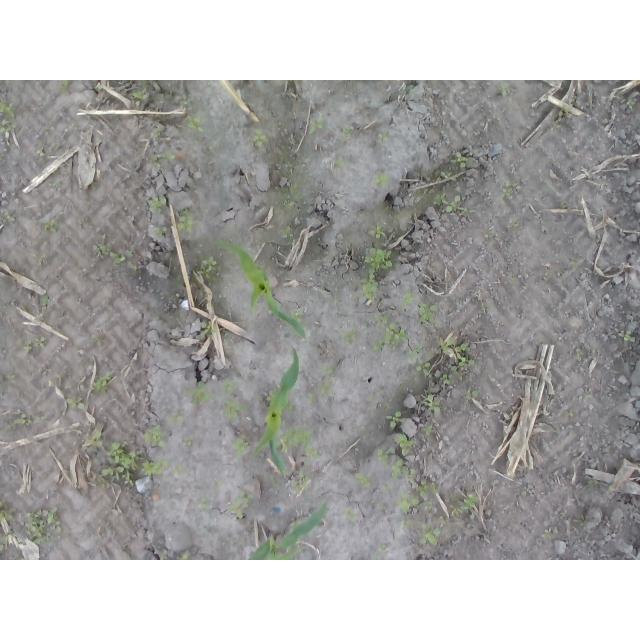Maize: (215, 240, 308, 341), (244, 344, 300, 479), (244, 502, 328, 560)
Weeds: (99, 442, 142, 487), (92, 234, 138, 270), (274, 426, 318, 459), (24, 509, 60, 543), (437, 336, 475, 366), (434, 192, 475, 216), (227, 488, 254, 520), (184, 382, 217, 407), (419, 516, 446, 546), (364, 247, 393, 273), (142, 459, 183, 477), (383, 324, 409, 351), (358, 273, 379, 305), (392, 459, 417, 484), (451, 493, 478, 516), (142, 425, 168, 448), (394, 491, 420, 514), (221, 398, 247, 420), (394, 432, 415, 457), (290, 471, 310, 496), (197, 256, 217, 280), (6, 412, 33, 429), (177, 208, 196, 232), (90, 372, 111, 393), (417, 479, 440, 498), (422, 394, 442, 414), (148, 195, 168, 214), (419, 303, 438, 323), (85, 431, 103, 450), (186, 115, 205, 133), (386, 409, 405, 427), (232, 438, 249, 458), (416, 358, 433, 378), (252, 129, 269, 148), (400, 288, 416, 308), (452, 150, 469, 168), (0, 99, 16, 118), (1, 502, 16, 522), (132, 88, 148, 106), (66, 395, 86, 409), (372, 172, 389, 188), (30, 252, 48, 267), (465, 386, 480, 404), (377, 449, 391, 468), (502, 181, 518, 197), (288, 309, 305, 324), (374, 313, 391, 328), (407, 344, 422, 361), (354, 473, 371, 488), (309, 115, 323, 133), (618, 330, 637, 343), (200, 321, 216, 336), (371, 225, 387, 240), (42, 219, 59, 233), (196, 497, 212, 511), (0, 119, 16, 133), (169, 411, 183, 426), (540, 527, 556, 540), (556, 104, 572, 117), (316, 382, 332, 395), (153, 226, 168, 239), (345, 508, 358, 523), (498, 82, 511, 96), (221, 380, 235, 393), (440, 171, 456, 182), (396, 519, 412, 530), (4, 210, 17, 223), (266, 388, 279, 401), (281, 226, 294, 239), (343, 330, 356, 343), (440, 373, 454, 385), (179, 94, 192, 106), (151, 154, 162, 168), (373, 339, 385, 351), (23, 340, 34, 353), (400, 84, 414, 94), (0, 530, 14, 540), (320, 365, 334, 375), (334, 159, 346, 170), (34, 337, 46, 348), (306, 393, 318, 404), (178, 550, 191, 560), (161, 151, 175, 160), (154, 125, 163, 139), (451, 365, 462, 376), (283, 401, 294, 412), (212, 479, 224, 489), (575, 347, 583, 362), (50, 182, 63, 191), (41, 294, 51, 305), (576, 516, 587, 526), (378, 132, 389, 142), (341, 126, 351, 137), (425, 425, 436, 435), (509, 218, 519, 228), (627, 99, 636, 110), (587, 478, 599, 486), (92, 181, 101, 191), (381, 485, 391, 494), (377, 544, 387, 553), (158, 549, 166, 560), (564, 408, 575, 416), (61, 80, 68, 92), (271, 475, 278, 486), (366, 395, 375, 403), (571, 262, 579, 271), (208, 141, 216, 150), (183, 437, 192, 445), (425, 502, 433, 510), (377, 503, 385, 510), (285, 161, 293, 168), (97, 83, 104, 89), (585, 394, 593, 399), (521, 491, 528, 496), (371, 556, 377, 561)
